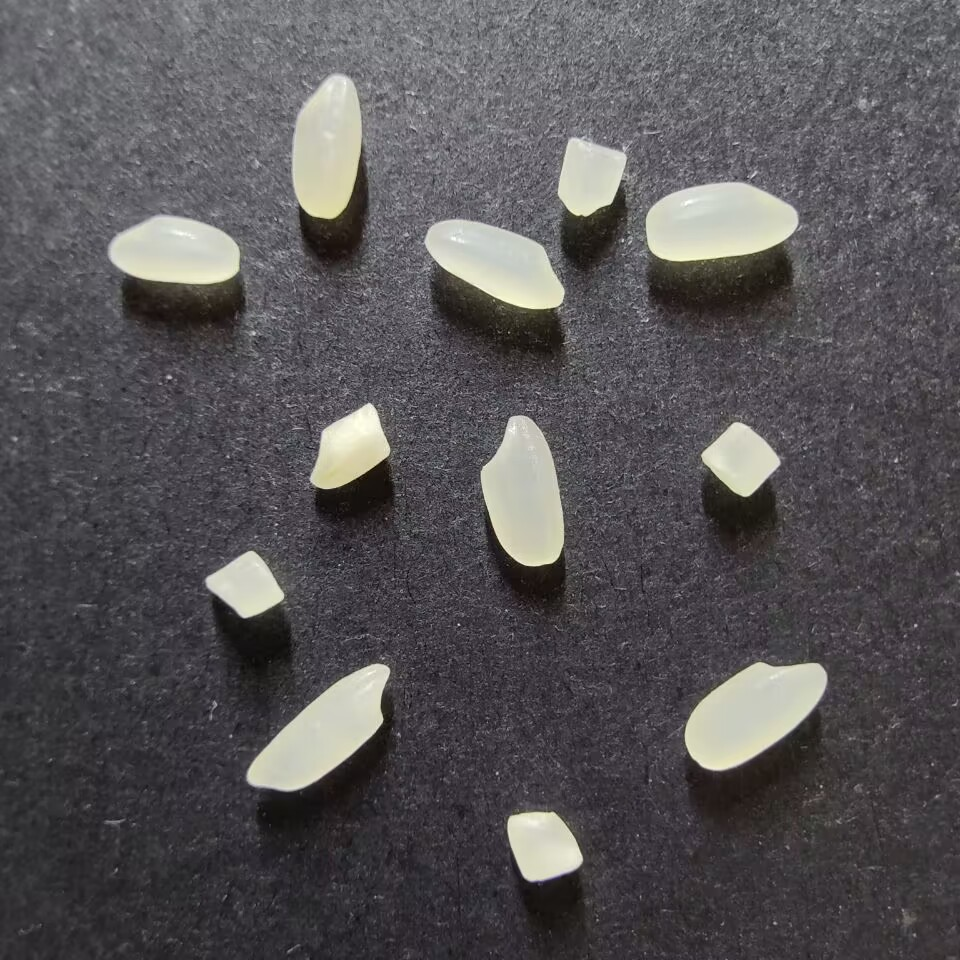broken: (308, 403, 390, 490), (699, 421, 781, 498), (505, 811, 584, 883), (204, 549, 284, 619), (556, 138, 626, 217)
rice: (246, 662, 391, 792), (683, 660, 828, 771), (479, 414, 564, 566), (424, 219, 565, 310), (645, 182, 798, 261), (290, 74, 361, 219), (108, 214, 240, 284)
